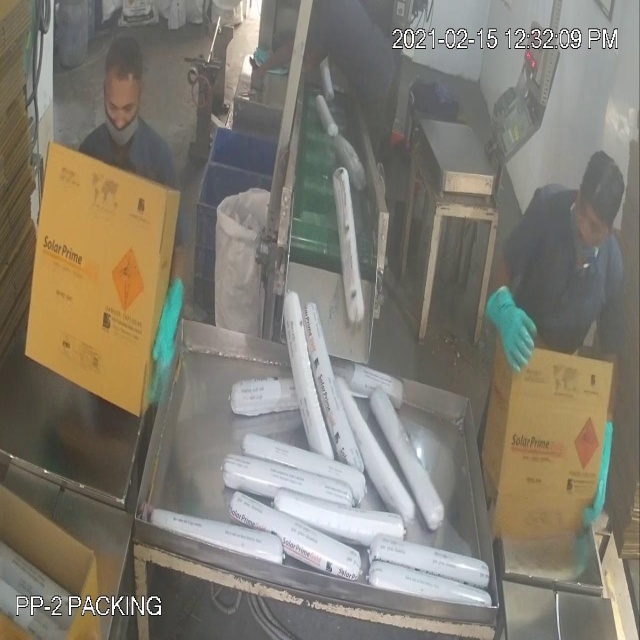Guantes: (479, 270, 543, 382), (145, 266, 192, 393)
Sin_guantes: (248, 31, 328, 86)
